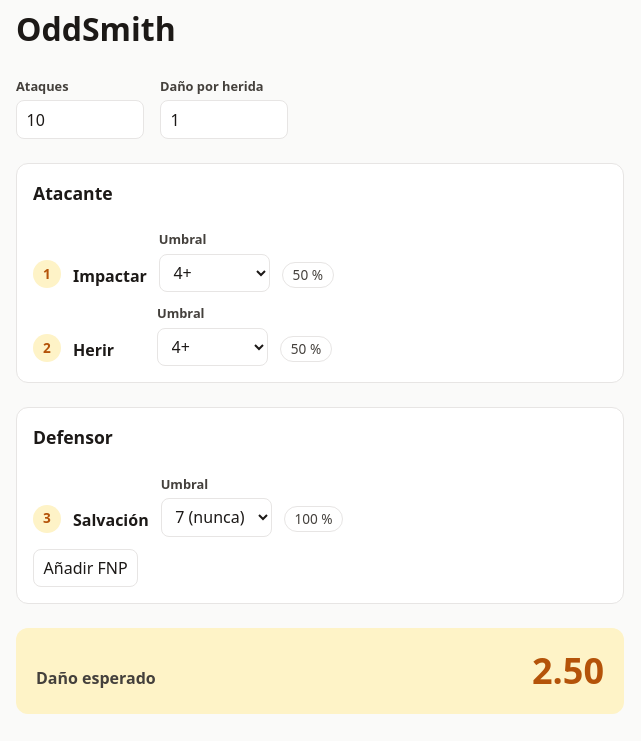
it: derives the result from the steps, with an optional FNP as step 4
This screenshot has width=641, height=741.
Expected: the text "2.50" is shown, [532,644,604,698]
Click the button "Añadir FNP": (86, 568) [33,549,138,588]
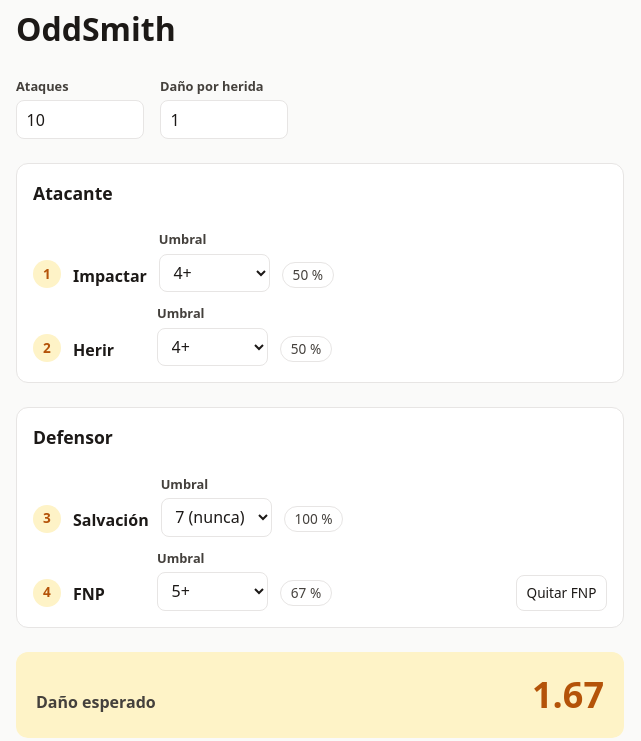
Result: the text "1.67" is shown at [532,668,604,722]
Result: the button "Añadir FNP" is gone
